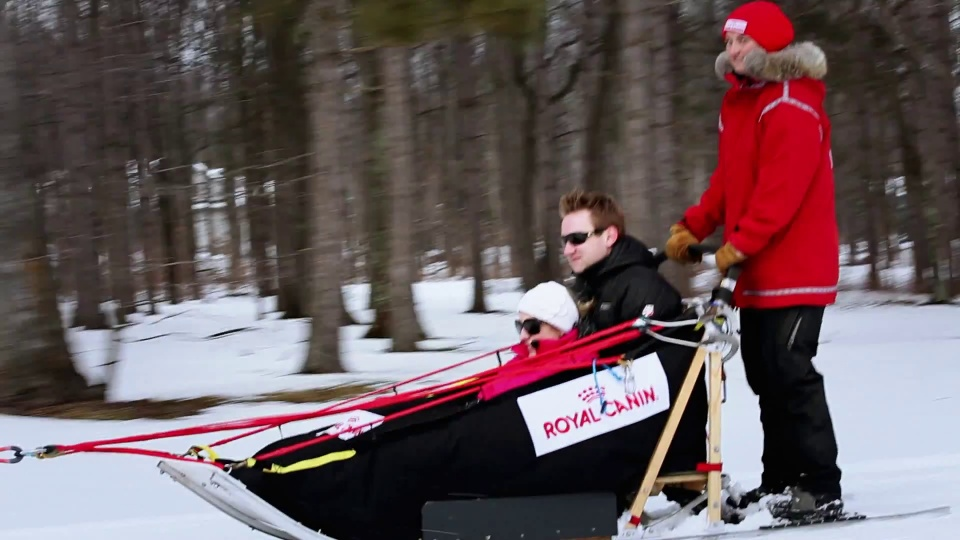person: (666, 7, 869, 534), (555, 187, 699, 333)
